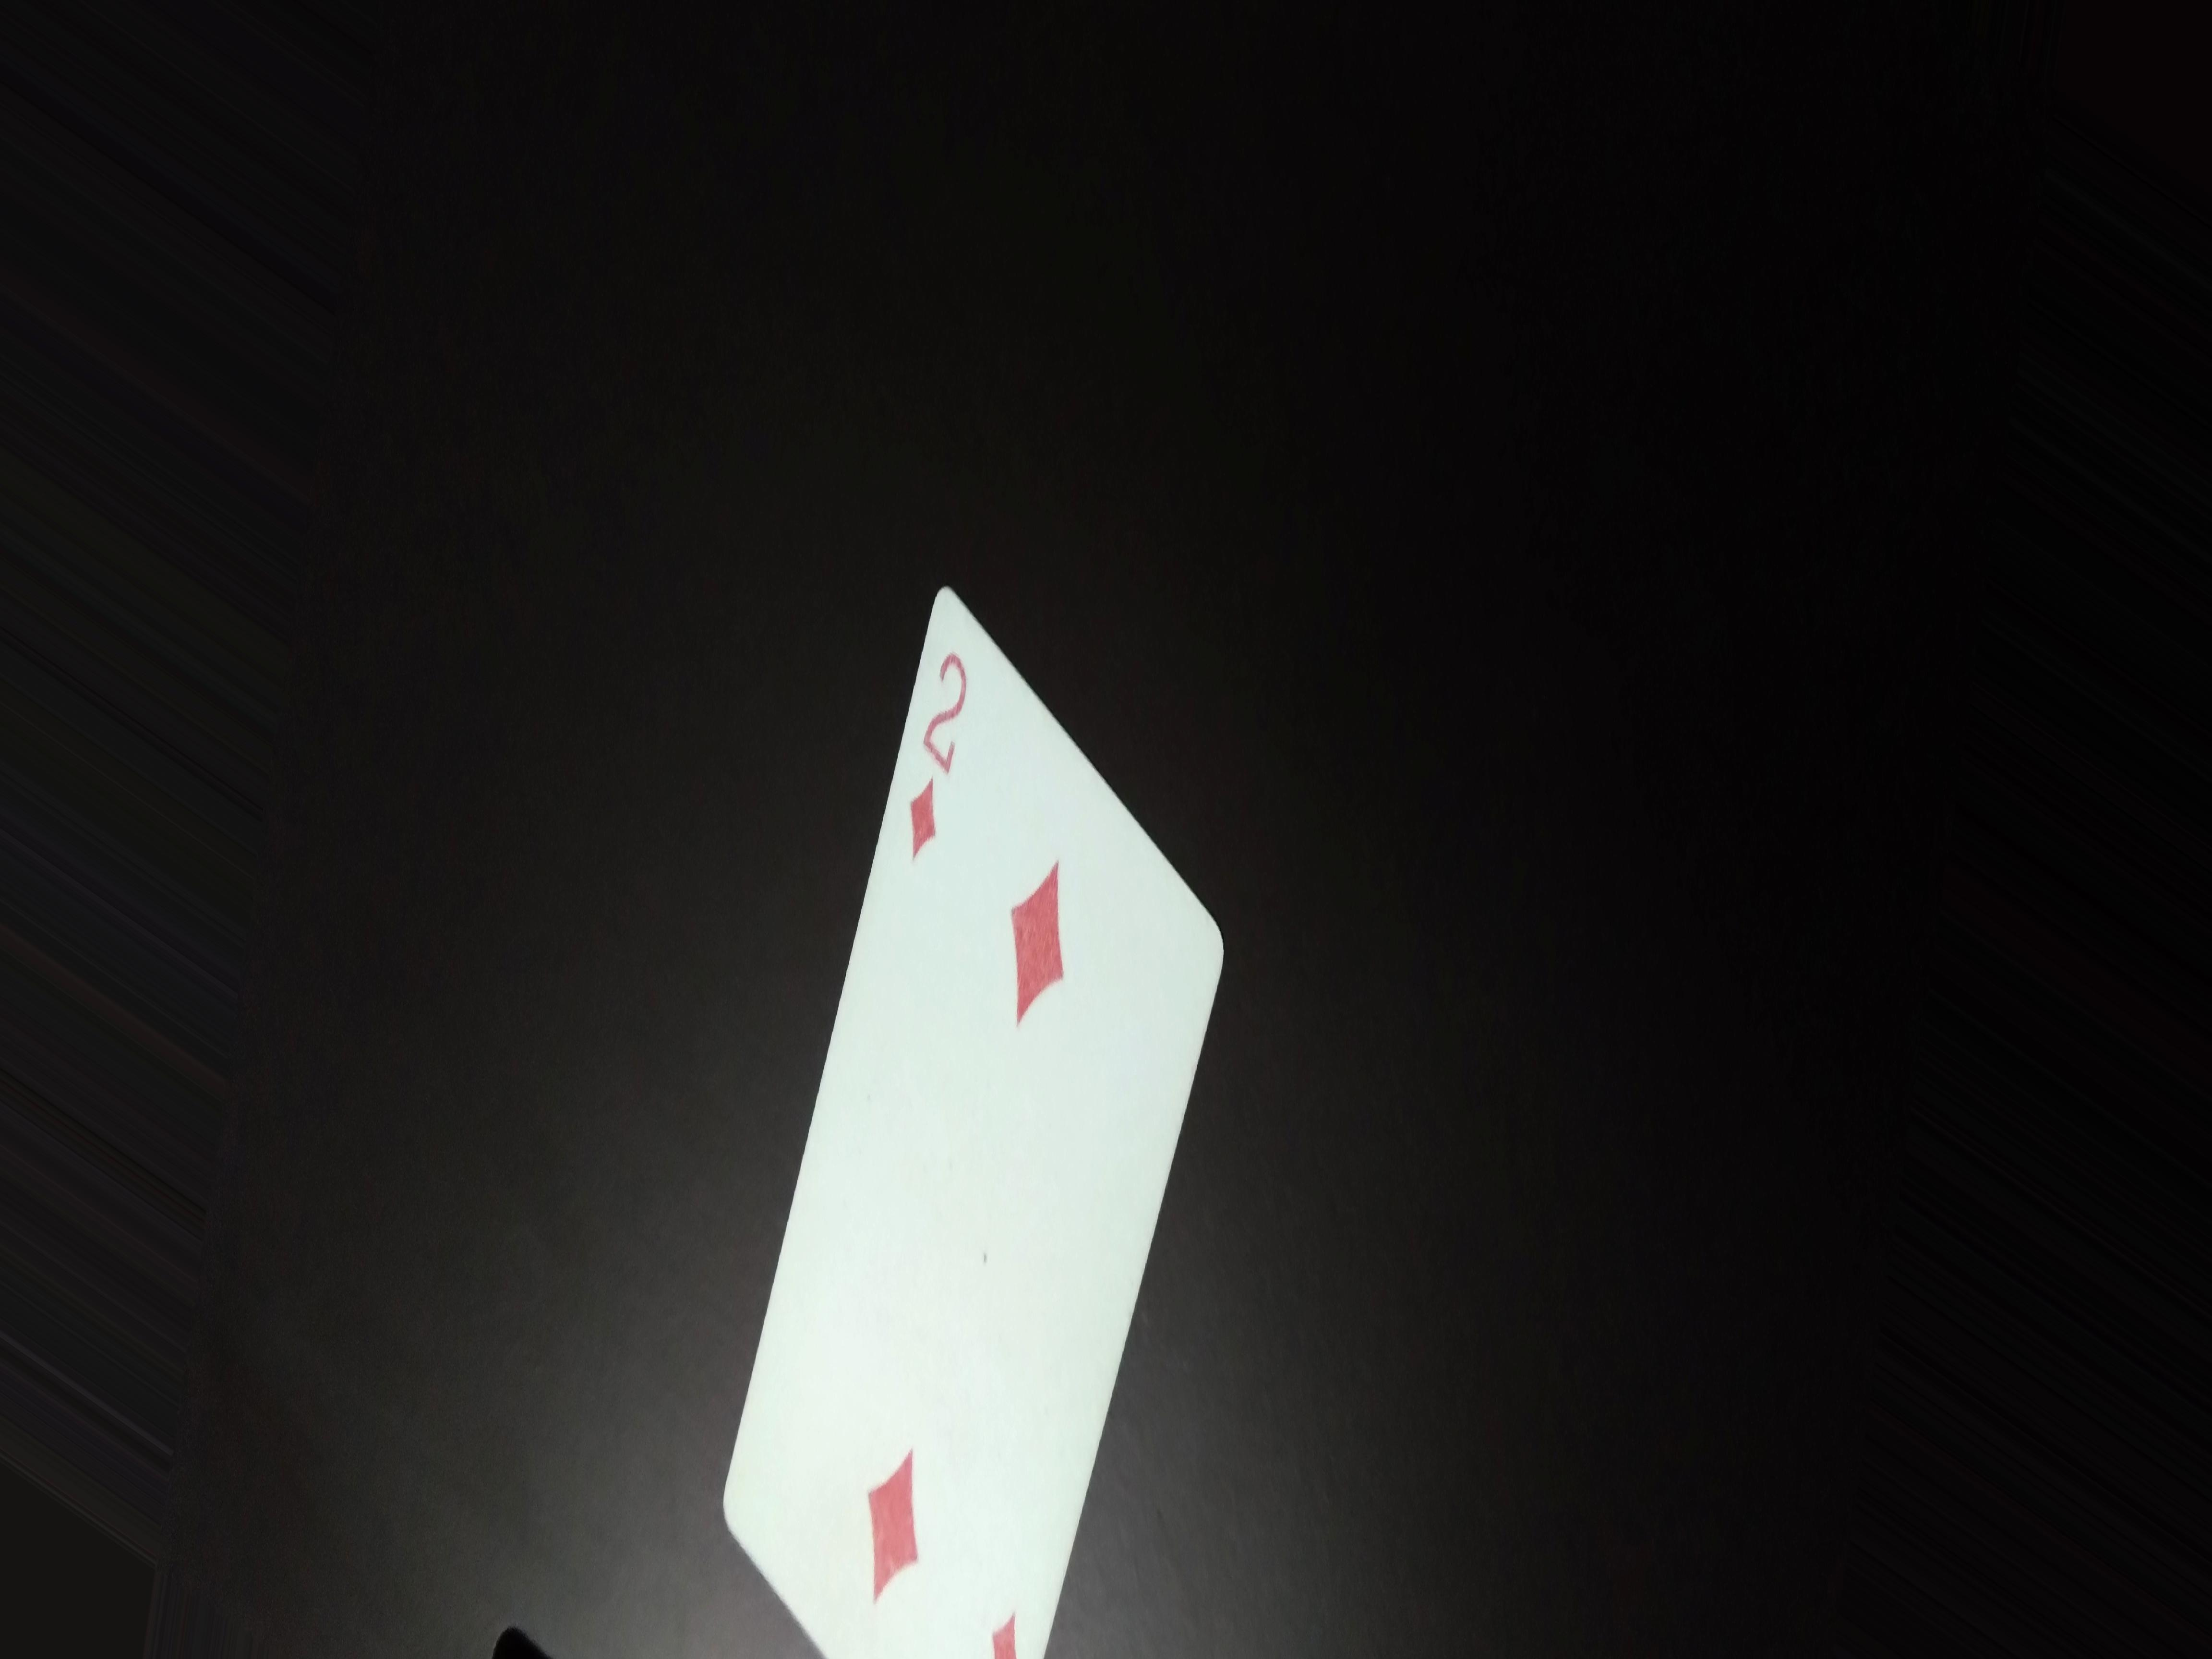2D: (894, 641, 981, 884)
